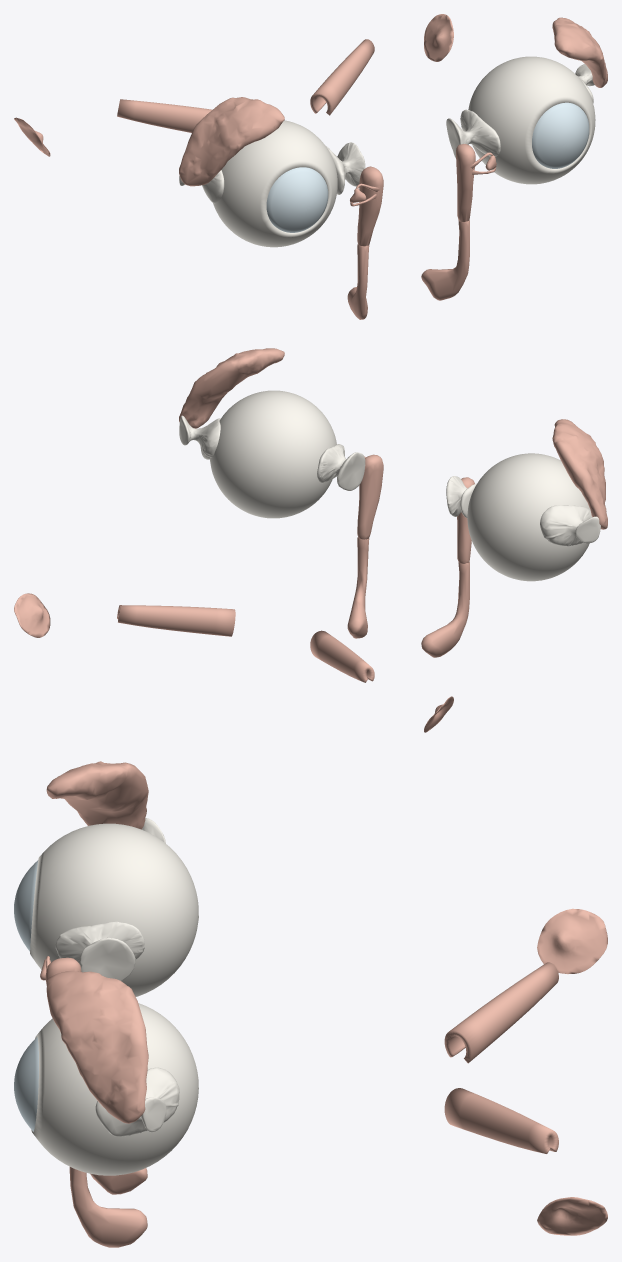
File: sensory.glb
3 views of the same model, one above another, from view 1: azimuth 30°, elevation 25°; view 2: azimuth 150°, elevation 25°; view 3: azimuth 270°, elevation 25° (orthographic). The views are drawn at different scales.
Parts seen in each view (by area): view 1: sclera-left, sclera-right, lacrimal-gland-right, cornea-right, cornea-left, lacrimal-gland-left, auditory-tube-right, auditory-tube-left, suspensory-ligament-of-eyeball-left, nasolacrimal-duct-left, suspensory-ligament-of-eyeball-right, lacrimal-sac-right (+4 smaller); view 2: sclera-left, sclera-right, lacrimal-gland-left, lacrimal-gland-right, suspensory-ligament-of-eyeball-right, auditory-tube-left, suspensory-ligament-of-eyeball-left, nasolacrimal-duct-right, auditory-tube-right, lacrimal-sac-left, nasolacrimal-duct-left, tympanic-membrane-left (+1 smaller); view 3: sclera-right, sclera-left, lacrimal-gland-left, lacrimal-gland-right, auditory-tube-right, suspensory-ligament-of-eyeball-right, auditory-tube-left, tympanic-membrane-right, nasolacrimal-duct-left, suspensory-ligament-of-eyeball-left, tympanic-membrane-left, cornea-left (+2 smaller).
Part boxes in pixels (<box>): sclera-left: <box>468,56,595,184</box>; sclera-right: <box>213,120,337,247</box>; lacrimal-gland-right: <box>179,97,284,186</box>; cornea-right: <box>266,167,328,232</box>; cornea-left: <box>532,102,589,168</box>; lacrimal-gland-left: <box>552,17,607,87</box>; auditory-tube-right: <box>117,99,212,132</box>; auditory-tube-left: <box>310,39,374,115</box>; suspensory-ligament-of-eyeball-left: <box>446,64,594,157</box>; nasolacrimal-duct-left: <box>421,219,469,300</box>; suspensory-ligament-of-eyeball-right: <box>179,142,365,203</box>; lacrimal-sac-right: <box>357,166,383,246</box>; sclera-left: <box>210,390,336,518</box>; sclera-right: <box>467,453,590,581</box>; lacrimal-gland-left: <box>179,348,284,428</box>; lacrimal-gland-right: <box>552,419,607,529</box>; suspensory-ligament-of-eyeball-right: <box>446,476,600,546</box>; auditory-tube-left: <box>117,605,235,636</box>; suspensory-ligament-of-eyeball-left: <box>179,415,365,490</box>; nasolacrimal-duct-right: <box>421,562,469,657</box>; auditory-tube-right: <box>310,630,374,682</box>; lacrimal-sac-left: <box>357,454,383,539</box>; nasolacrimal-duct-left: <box>347,537,369,638</box>; tympanic-membrane-left: <box>14,593,50,637</box>; sclera-right: <box>30,823,198,996</box>; sclera-left: <box>31,1003,198,1175</box>; lacrimal-gland-left: <box>46,971,148,1123</box>; lacrimal-gland-right: <box>46,761,148,829</box>; auditory-tube-right: <box>444,962,558,1063</box>; suspensory-ligament-of-eyeball-right: <box>55,818,165,981</box>; auditory-tube-left: <box>444,1088,558,1153</box>; tympanic-membrane-right: <box>537,908,607,974</box>; nasolacrimal-duct-left: <box>69,1167,147,1247</box>; suspensory-ligament-of-eyeball-left: <box>95,1067,179,1136</box>; tympanic-membrane-left: <box>537,1197,607,1235</box>; cornea-left: <box>14,1037,38,1131</box>.
Size of the model in its own units: 0.1012 by 0.0571 by 0.0878.
